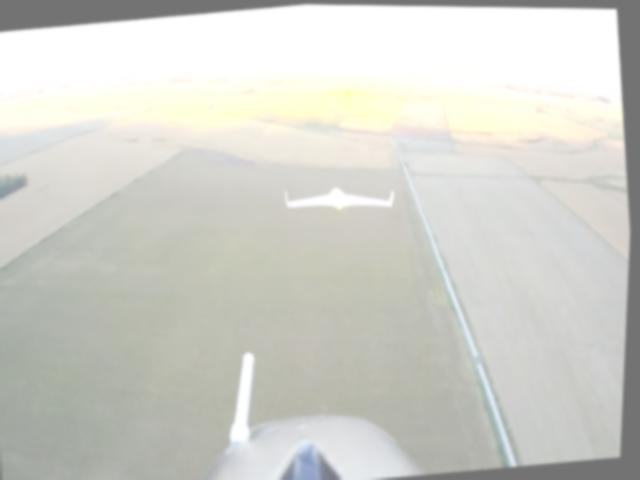plane: (288, 179, 398, 219)
